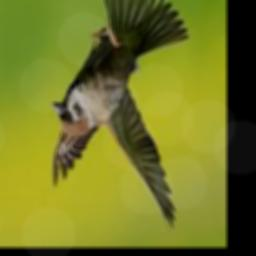Sparrow: (53, 0, 189, 233)
